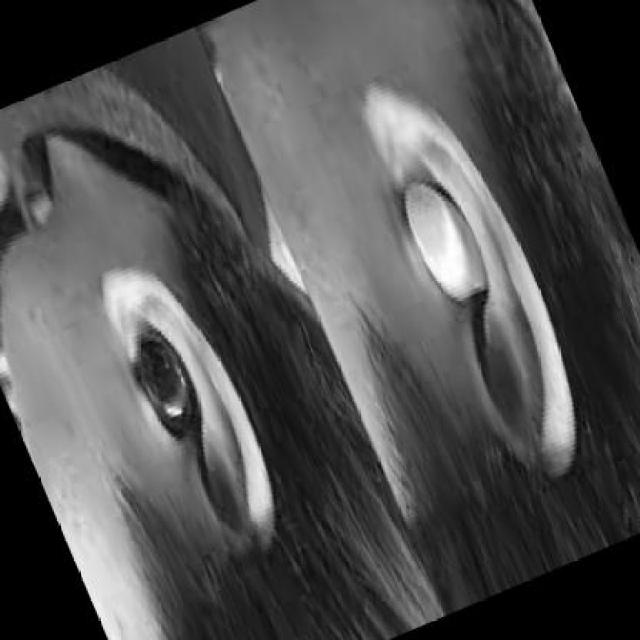earphone: (362, 155, 511, 305), (123, 326, 217, 436)
